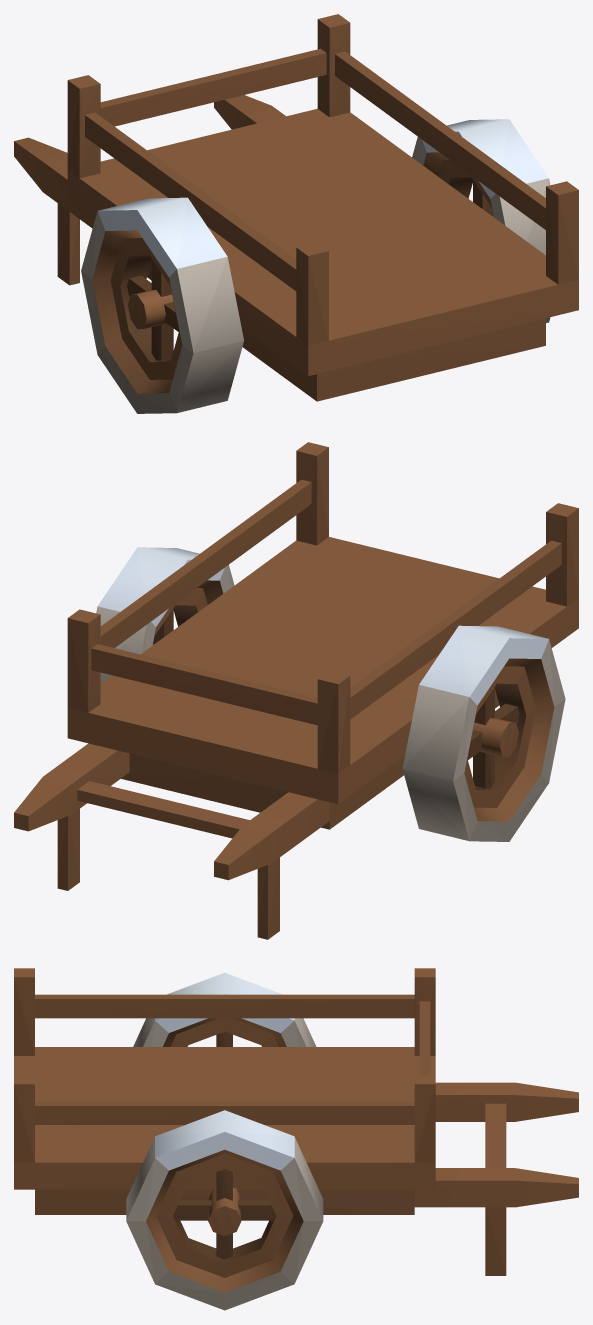
File: kenney_town_cart.glb
3 renders of one model, top to bottom at view 1: azimuth 30°, elevation 25°; view 2: azimuth 150°, elevation 25°; view 3: azimuth 270°, elevation 25°, orthographic. The views are drawn at different scales.
Parts seen in each view (by area): view 1: wood, stone, cloth; view 2: wood, stone, cloth; view 3: wood, stone, cloth.
Part boxes in pixels (x1,y1,x2,y2): wood: (14, 14, 578, 401); stone: (81, 137, 550, 413); cloth: (97, 119, 548, 277); wood: (14, 442, 578, 939); stone: (96, 565, 565, 841); cloth: (98, 547, 548, 705); wood: (14, 968, 578, 1292); stone: (126, 1018, 323, 1310); cloth: (155, 972, 294, 1170).
Size of the model in its own units: 0.893 by 0.5355 by 1.34.
